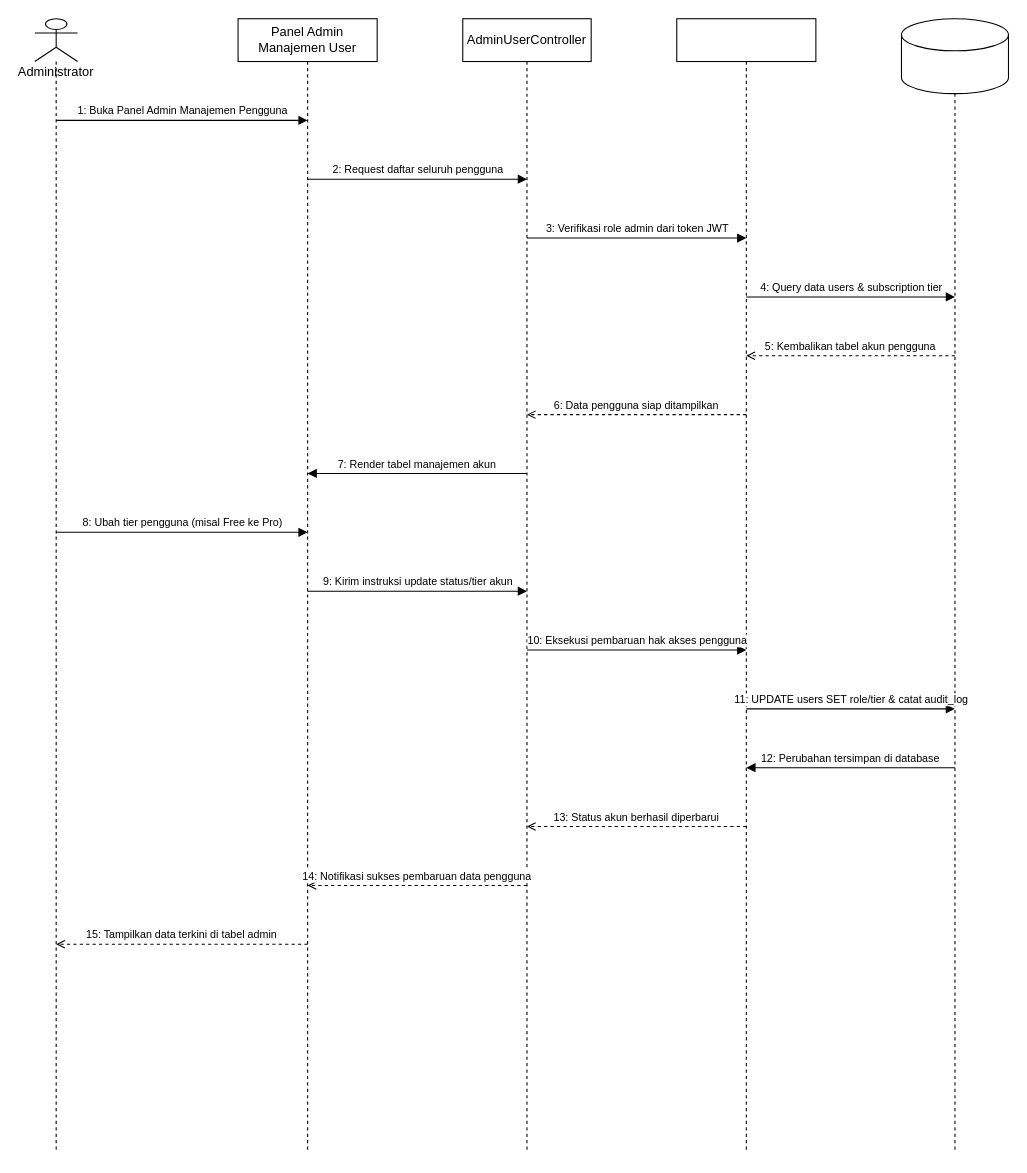
The diagram is 1027 pixels wide and 1173 high, and some of its shapes have lost their labels. The shapes that lost their labels are listed below. From the top down, each one's box as (x1, y1, x2, y2) in pixels, then its label:
(900, 18, 1008, 94): <<Database>> UserDB
(676, 18, 816, 1153): AdminUserService
